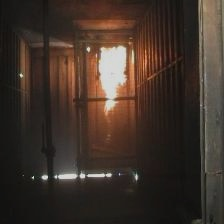fire: (92, 43, 130, 113)
